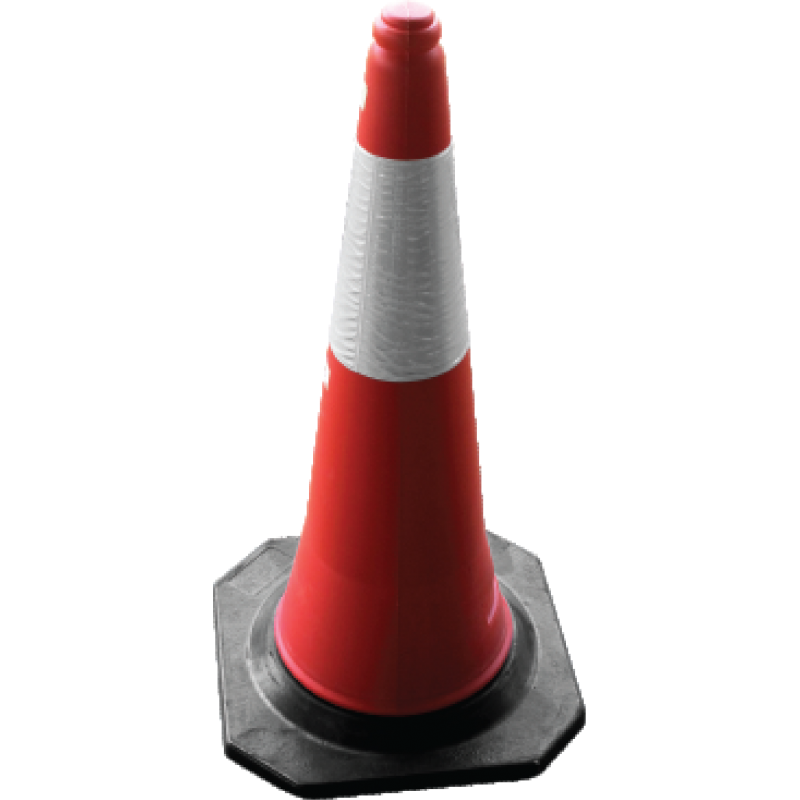Road_cone: (218, 7, 602, 800)
